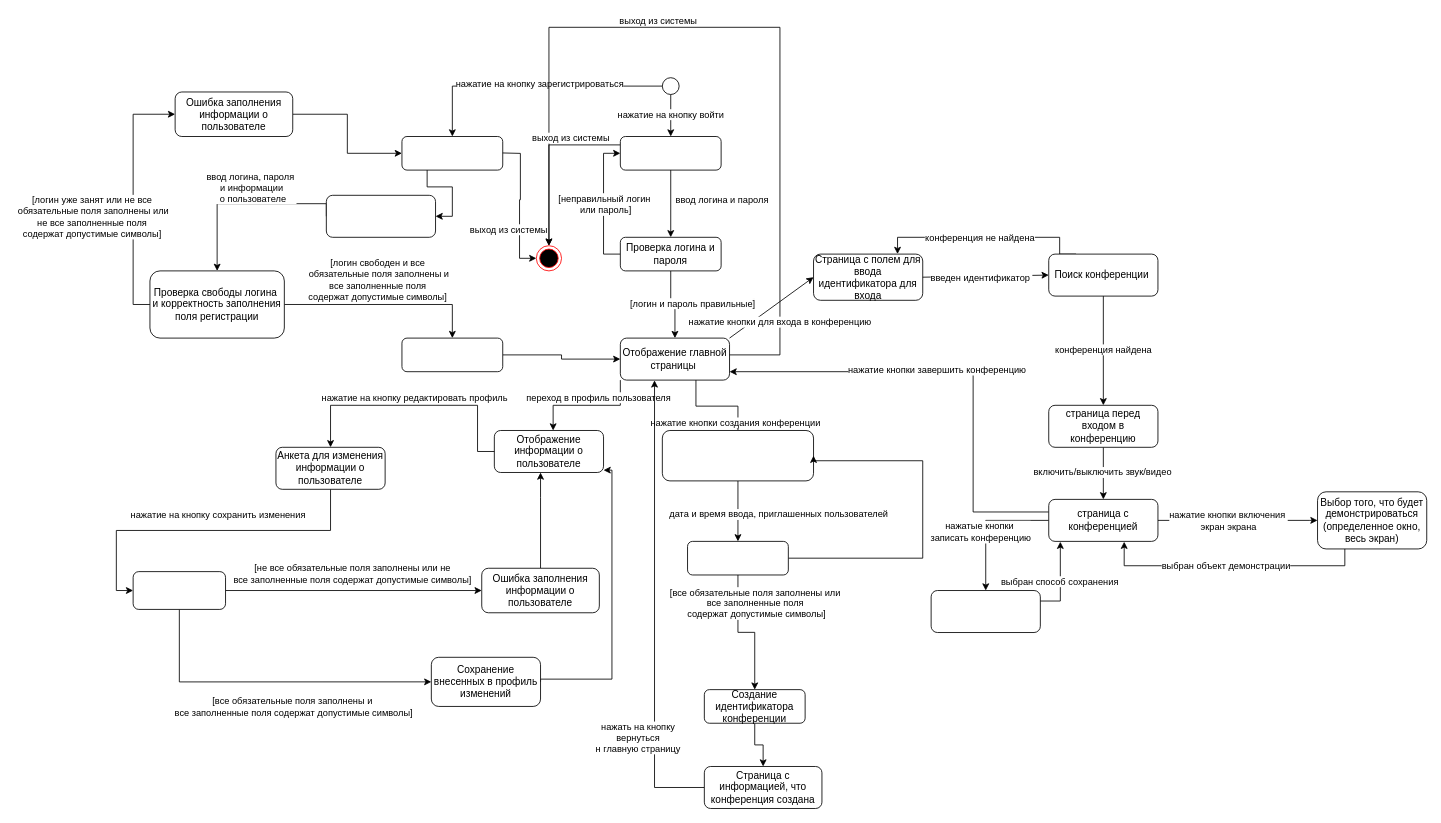
Image size: 1441x823. Some labels were removed from this diagram. The shapes that lost their labels are listed below. From the top down, each one's centre as x and y in pixels, then its label:
the point at 452,153: Ожидание регистрации
the point at 670,153: Ожидание входа в систему
the point at 381,215: Отображение анкеты для регистрации
the point at 452,354: Создание аккаунта нового пользователя
the point at 738,455: Страница с информацией, которую необходимо заполнить для создания конференции
the point at 737,558: Проверка корректности введенных данных
the point at 179,590: Проверка корректности заполнения полей
the point at 985,611: Страница с вариантами сохранения записи
